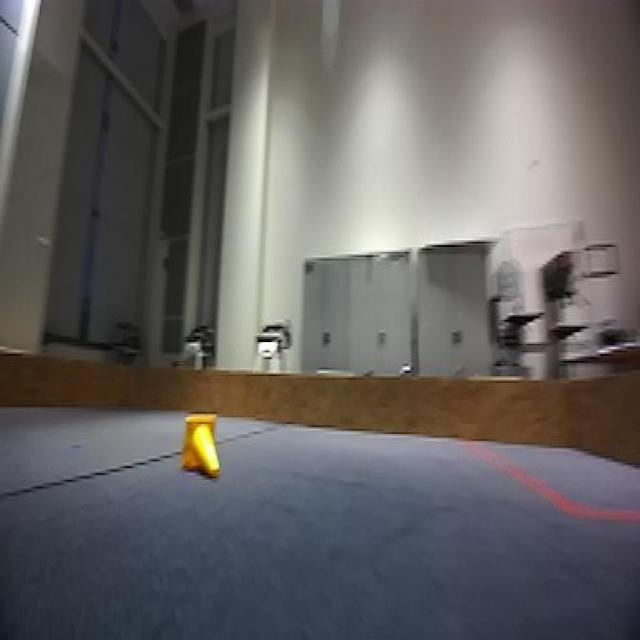frc_cone: (180, 414, 224, 485)
